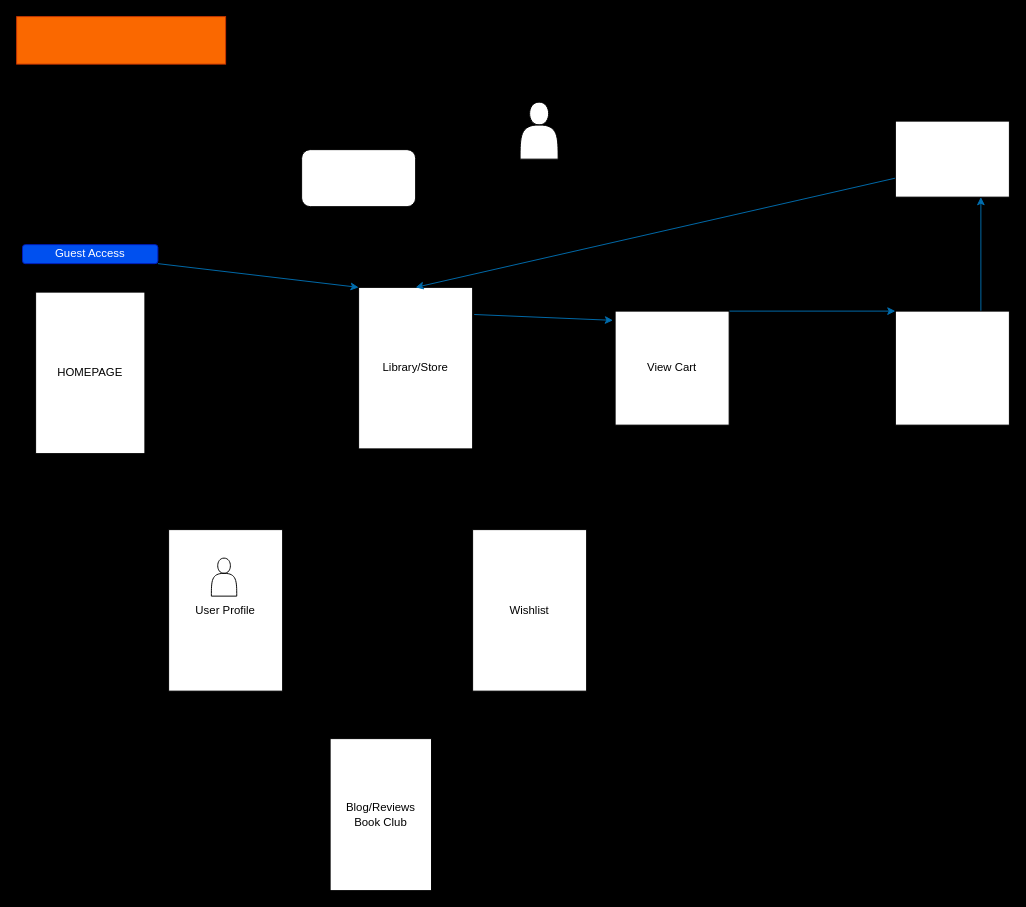
Image size: 1026x907. Some labels were removed from this diagram. Each missing label, with the centre of its shape:
Checkout: (951,367)
Order Placed: (951,158)
User Journey through the site Blue arrow is Guest Access: (121,40)
